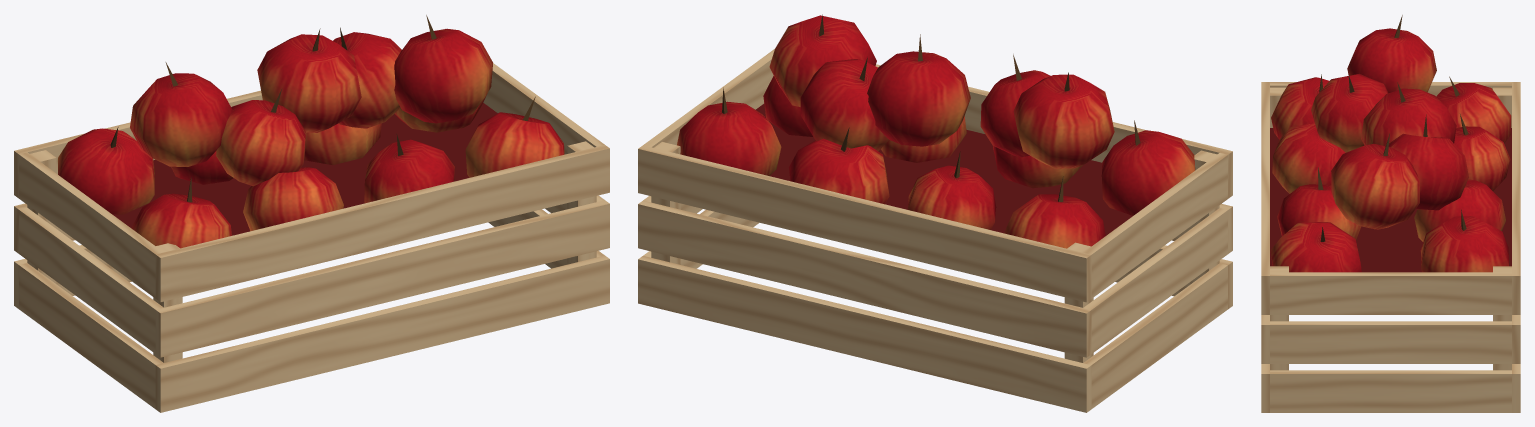
The model's file is Prop_FruitCrate_Red.fbx.
The picture shows the model from 3 angles, left to right: view 1: azimuth 30°, elevation 25°; view 2: azimuth 150°, elevation 25°; view 3: azimuth 270°, elevation 25°; orthographic projection. The views are drawn at different scales.
Parts seen in each view (by area): view 1: Prop_FruitCrate_Red_LOD0; view 2: Prop_FruitCrate_Red_LOD0; view 3: Prop_FruitCrate_Red_LOD0.
Part boxes in pixels (x1,y1,x2,y2): Prop_FruitCrate_Red_LOD0: (14, 15, 609, 412); Prop_FruitCrate_Red_LOD0: (638, 14, 1232, 412); Prop_FruitCrate_Red_LOD0: (1261, 15, 1520, 412).
Size of what is drawn, in the model's own units: 0.85 by 0.4936 by 0.48.
1 material, 1 textured.
